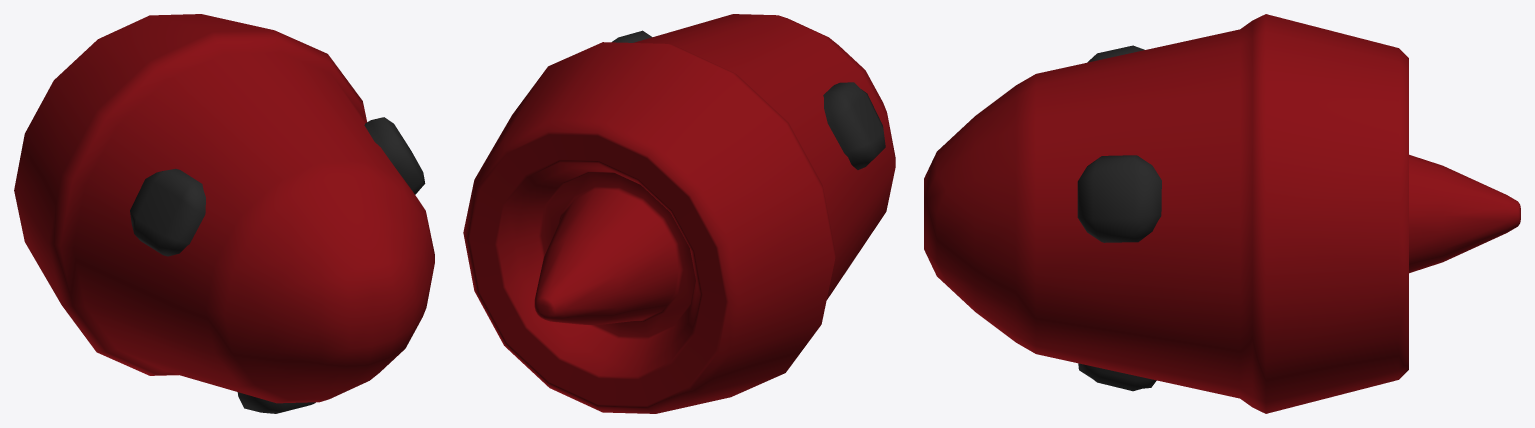
The model's file is Ship_enemy_12_Engine.fbx.
3 views of the same model, side by side, from view 1: azimuth 30°, elevation 25°; view 2: azimuth 150°, elevation 25°; view 3: azimuth 270°, elevation 25° (orthographic). The views are drawn at different scales.
Parts seen in each view (by area): view 1: Ship_enemy_12_Engine; view 2: Ship_enemy_12_Engine; view 3: Ship_enemy_12_Engine.
Part boxes in pixels (<box>): Ship_enemy_12_Engine: <box>14,14,434,413</box>; Ship_enemy_12_Engine: <box>463,14,895,413</box>; Ship_enemy_12_Engine: <box>924,14,1520,413</box>.
Bounding box in the file's own units: 120 × 120 × 179.
